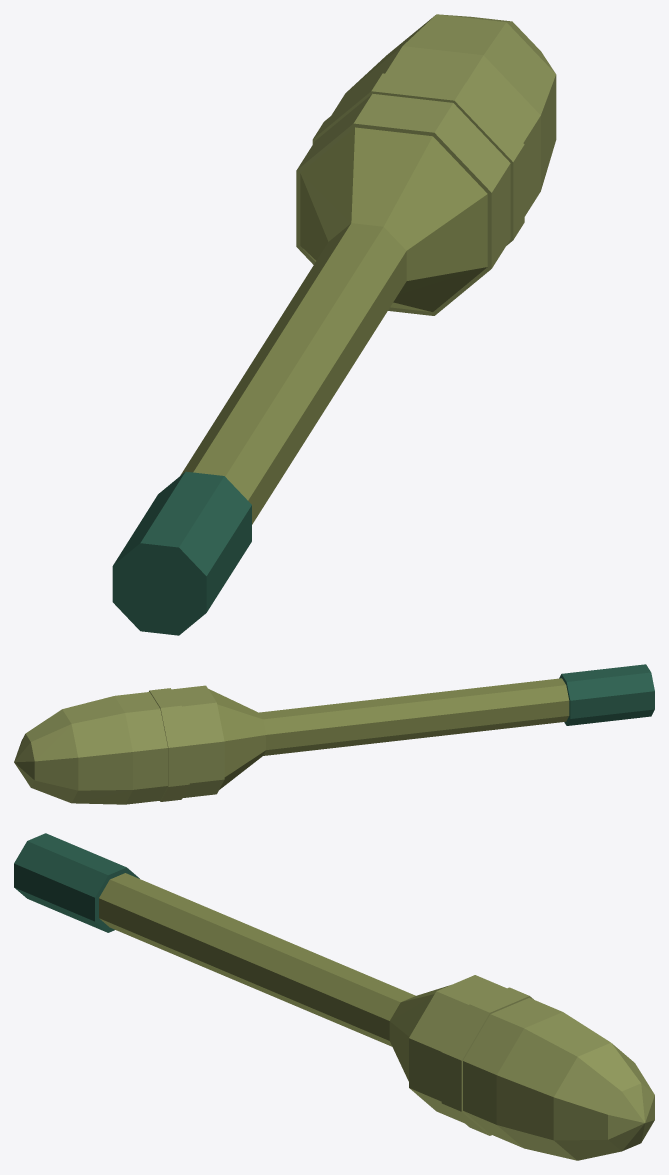
The model's file is ce_ammo2_rpg_frag_a.obj.
3 views of the same model, one above another, from view 1: azimuth 30°, elevation 25°; view 2: azimuth 150°, elevation 25°; view 3: azimuth 270°, elevation 25° (orthographic). The views are drawn at different scales.
Parts seen in each view (by area): view 1: ce_ammo2_rpg_frag_a_1, ce_ammo2_rpg_frag_a_2, ce_ammo2_rpg_frag_a_0, ce_ammo2_rpg_frag_a_3, ce_ammo2_rpg_frag_a_6, ce_ammo2_rpg_frag_a_5, ce_ammo2_rpg_frag_a_4; view 2: ce_ammo2_rpg_frag_a_1, ce_ammo2_rpg_frag_a_6, ce_ammo2_rpg_frag_a_0, ce_ammo2_rpg_frag_a_3, ce_ammo2_rpg_frag_a_5, ce_ammo2_rpg_frag_a_7, ce_ammo2_rpg_frag_a_2, ce_ammo2_rpg_frag_a_4, ce_ammo2_rpg_frag_a_8; view 3: ce_ammo2_rpg_frag_a_1, ce_ammo2_rpg_frag_a_6, ce_ammo2_rpg_frag_a_7, ce_ammo2_rpg_frag_a_0, ce_ammo2_rpg_frag_a_5, ce_ammo2_rpg_frag_a_3, ce_ammo2_rpg_frag_a_4, ce_ammo2_rpg_frag_a_8, ce_ammo2_rpg_frag_a_2.
Boxes of the visible parts, box(x1,y1,x2,y2) form: ce_ammo2_rpg_frag_a_1: box(180, 223, 406, 524); ce_ammo2_rpg_frag_a_2: box(300, 127, 487, 312); ce_ammo2_rpg_frag_a_0: box(112, 471, 251, 635); ce_ammo2_rpg_frag_a_3: box(296, 93, 510, 315); ce_ammo2_rpg_frag_a_6: box(347, 14, 556, 189); ce_ammo2_rpg_frag_a_5: box(331, 46, 540, 216); ce_ammo2_rpg_frag_a_4: box(312, 73, 524, 245); ce_ammo2_rpg_frag_a_1: box(259, 678, 569, 755); ce_ammo2_rpg_frag_a_6: box(62, 696, 132, 804); ce_ammo2_rpg_frag_a_0: box(559, 664, 654, 725); ce_ammo2_rpg_frag_a_3: box(171, 685, 224, 797); ce_ammo2_rpg_frag_a_5: box(114, 692, 167, 804); ce_ammo2_rpg_frag_a_7: box(25, 709, 78, 803); ce_ammo2_rpg_frag_a_2: box(208, 688, 265, 789); ce_ammo2_rpg_frag_a_4: box(149, 688, 189, 801); ce_ammo2_rpg_frag_a_8: box(14, 734, 34, 787); ce_ammo2_rpg_frag_a_1: box(99, 873, 415, 1046); ce_ammo2_rpg_frag_a_6: box(496, 1012, 610, 1160); ce_ammo2_rpg_frag_a_7: box(553, 1043, 654, 1160); ce_ammo2_rpg_frag_a_0: box(14, 833, 139, 932); ce_ammo2_rpg_frag_a_5: box(463, 997, 562, 1147); ce_ammo2_rpg_frag_a_3: box(409, 975, 506, 1123); ce_ammo2_rpg_frag_a_4: box(441, 987, 533, 1135); ce_ammo2_rpg_frag_a_8: box(608, 1083, 654, 1151); ce_ammo2_rpg_frag_a_2: box(389, 985, 449, 1081).
Size of the model in its own units: 0.6702 by 0.1422 by 0.6702.
